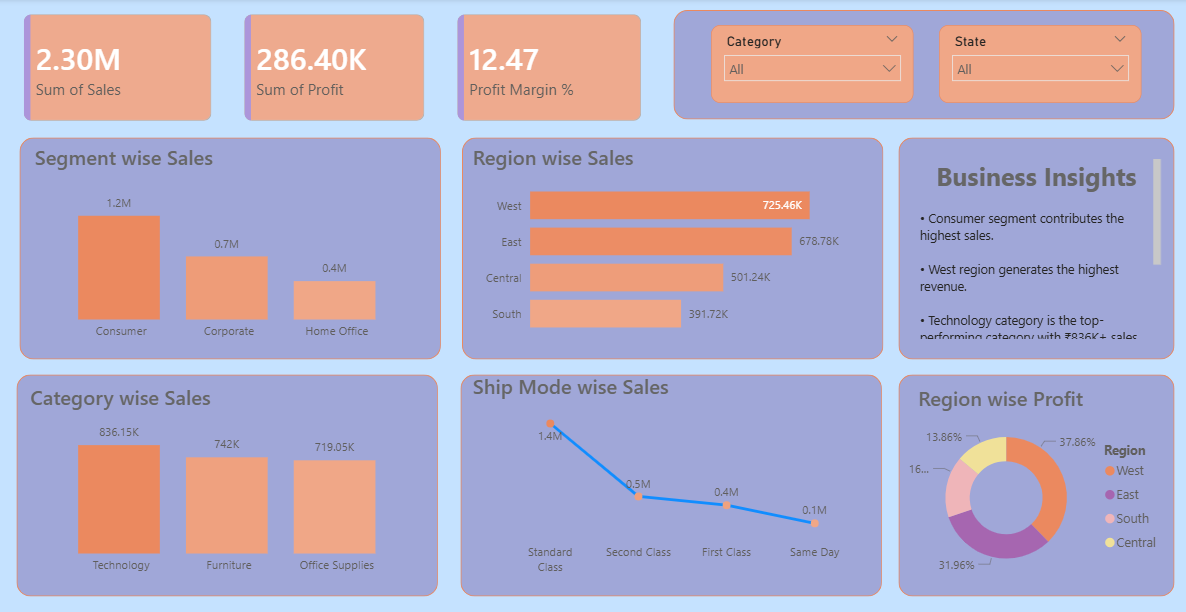

The dashboard page shown, as its layout file describes it:
{"tool":"powerbi","page":{"name":"Page 1","canvas":[1280,720],"ordinal":0},"visuals":[{"type":"shape","box":[504.2,399.2,447,235.4],"z":0},{"type":"shape","box":[33.4,399.2,447,235.4],"z":1000},{"type":"shape","box":[505.8,147.9,447,235.4],"z":2000},{"type":"shape","box":[36.6,147.9,447,235.4],"z":3000},{"type":"cardVisual","fields":{"Data":["Sum(E-commerce_yp.Sales)"]},"box":[23.9,0,233.8,147.9],"z":4000},{"type":"cardVisual","fields":{"Data":["Sum(E-commerce_yp.Profit)"]},"box":[257.7,0,225.9,147.9],"z":5000},{"type":"cardVisual","fields":{"Data":["E-commerce_yp.Profit Margin %"]},"box":[483.5,0,229,147.9],"z":6000},{"type":"barChart","fields":{"Category":["E-commerce_yp.Region"],"Y":["Sum(E-commerce_yp.Sales)"]},"box":[521.7,176.6,407.2,194.1],"z":7000},{"type":"columnChart","fields":{"Category":["E-commerce_yp.Category"],"Y":["Sum(E-commerce_yp.Sales)"]},"box":[47.7,435.8,421.5,182.9],"z":8000},{"type":"columnChart","fields":{"Category":["E-commerce_yp.Segment"],"Y":["Sum(E-commerce_yp.Sales)"]},"box":[47.7,184.5,421.5,186.1],"z":9000},{"type":"lineChart","fields":{"Category":["E-commerce_yp.Ship Mode"],"Y":["Sum(E-commerce_yp.Sales)"]},"box":[521.7,424.7,407.2,194.1],"z":10000},{"type":"shape","box":[730.1,12.7,531.3,116.1],"z":11000},{"type":"slicer","fields":{"Values":["E-commerce_yp.State"]},"box":[1011.6,28.6,214.7,82.7],"z":12000},{"type":"slicer","fields":{"Values":["E-commerce_yp.Category"]},"box":[769.9,28.6,214.7,82.7],"z":13000},{"type":"shape","box":[968.7,147.9,292.7,235.4],"z":14000},{"type":"textbox","box":[986.2,165.4,265.6,200.4],"z":15000},{"type":"textbox","box":[47.7,147.9,216.3,44.5],"z":16000},{"type":"textbox","box":[512.2,147.9,216.3,44.5],"z":17000},{"type":"textbox","box":[42.9,402.4,216.3,44.5],"z":18000},{"type":"textbox","box":[512.2,391.3,235.4,44.5],"z":19000},{"type":"shape","box":[968.7,399.2,292.7,235.4],"z":20000},{"type":"donutChart","fields":{"Category":["E-commerce_yp.Region"],"Y":["Sum(E-commerce_yp.Profit)"]},"box":[973.5,413.6,283.1,232.2],"z":21000},{"type":"textbox","box":[984.6,404,235.4,44.5],"z":22000}]}

Visuals, with their boxes on the page's 1280x720 design canvas (x1, y1, x2, y2). These are canvas units, not pixel positions in the 1186x612 screenshot, which may show the page scaled, cropped or inside an application window:
shape: 504, 399, 951, 635
shape: 33, 399, 480, 635
shape: 506, 148, 953, 383
shape: 37, 148, 484, 383
cardVisual - Sum(E-commerce_yp.Sales): 24, 0, 258, 148
cardVisual - Sum(E-commerce_yp.Profit): 258, 0, 484, 148
cardVisual - E-commerce_yp.Profit Margin %: 484, 0, 712, 148
barChart - E-commerce_yp.Region x Sum(E-commerce_yp.Sales): 522, 177, 929, 371
columnChart - E-commerce_yp.Category x Sum(E-commerce_yp.Sales): 48, 436, 469, 619
columnChart - E-commerce_yp.Segment x Sum(E-commerce_yp.Sales): 48, 184, 469, 371
lineChart - E-commerce_yp.Ship Mode x Sum(E-commerce_yp.Sales): 522, 425, 929, 619
shape: 730, 13, 1261, 129
slicer - E-commerce_yp.State: 1012, 29, 1226, 111
slicer - E-commerce_yp.Category: 770, 29, 985, 111
shape: 969, 148, 1261, 383
textbox: 986, 165, 1252, 366
textbox: 48, 148, 264, 192
textbox: 512, 148, 728, 192
textbox: 43, 402, 259, 447
textbox: 512, 391, 748, 436
shape: 969, 399, 1261, 635
donutChart - E-commerce_yp.Region x Sum(E-commerce_yp.Profit): 974, 414, 1257, 646
textbox: 985, 404, 1220, 448
